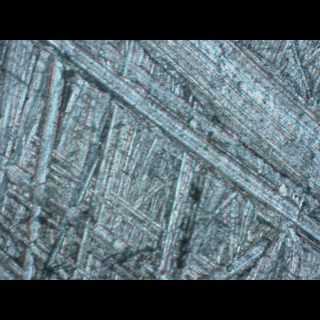d: (46, 40, 320, 221), (5, 132, 211, 279)
